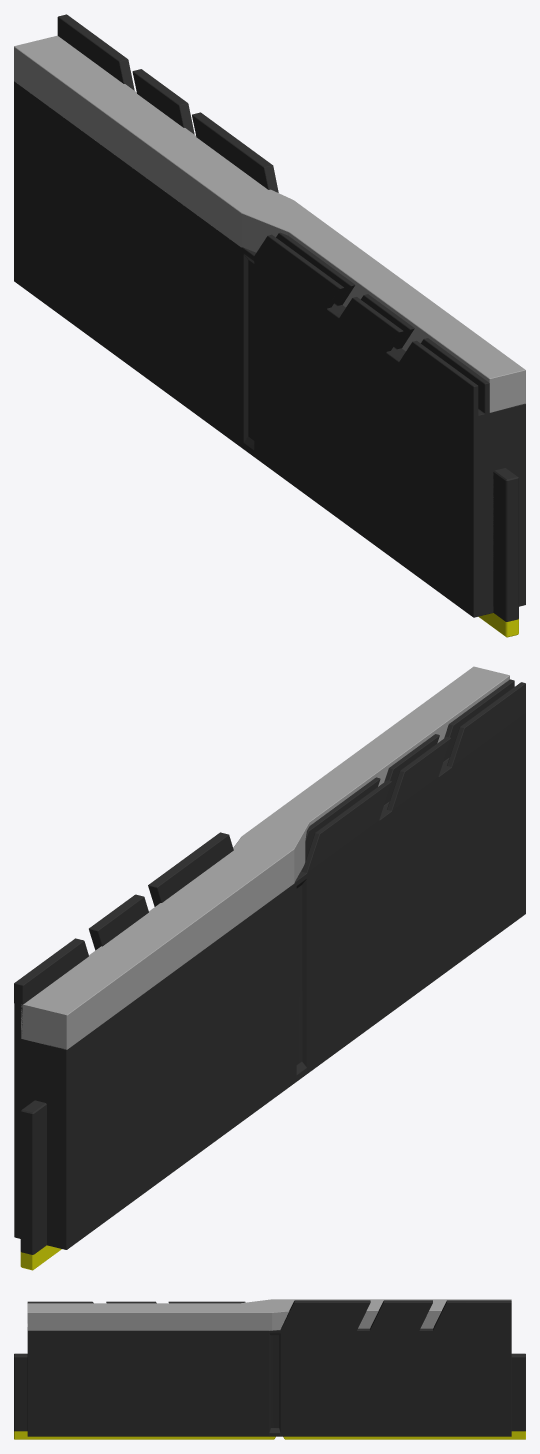
File: SM_Ram.fbx
3 views of the same model, one above another, from view 1: azimuth 30°, elevation 25°; view 2: azimuth 150°, elevation 25°; view 3: azimuth 270°, elevation 25° (orthographic). The views are drawn at different scales.
Parts seen in each view (by area): view 1: pCube6, pCube8, pCube9; view 2: pCube6, pCube8, pCube9; view 3: pCube6, pCube8, pCube9.
Part boxes in pixels (x1,y1,x2,y2): pCube6: (14,14,525,617); pCube8: (14,35,525,412); pCube9: (478,468,518,637); pCube6: (14,679,525,1249); pCube8: (21,666,509,1049); pCube9: (20,1100,61,1270); pCube6: (27,1300,511,1436); pCube8: (27,1299,511,1330); pCube9: (14,1353,525,1439).
Bounding box in the file's own units: 0.7593 × 3.68 × 12.
